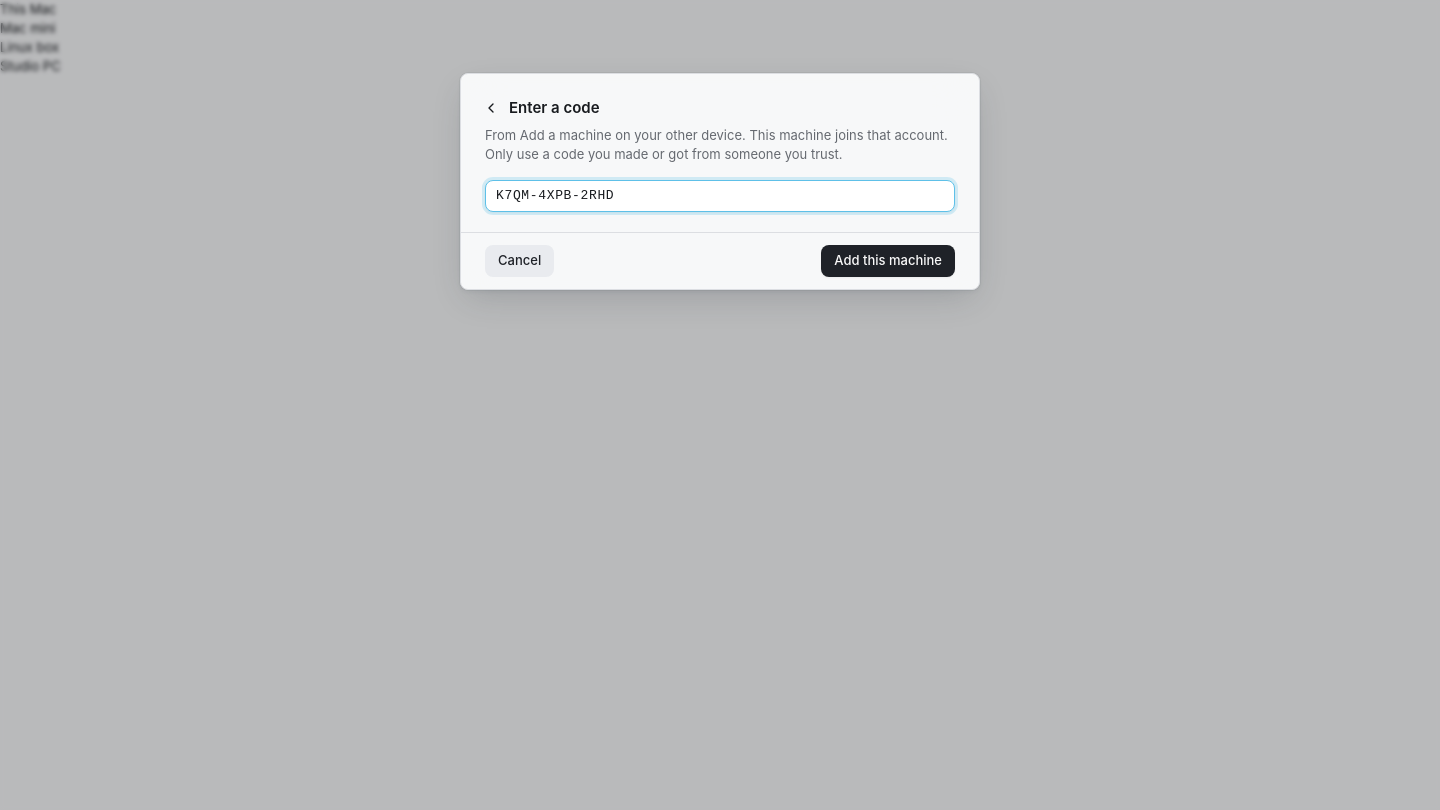
Test: Have a code? Enter it (this machine joins) › a code that fails says why, in words
Click the button "Add this machine".
click(888, 261)  # box x1=821 y1=245 x2=955 y2=277
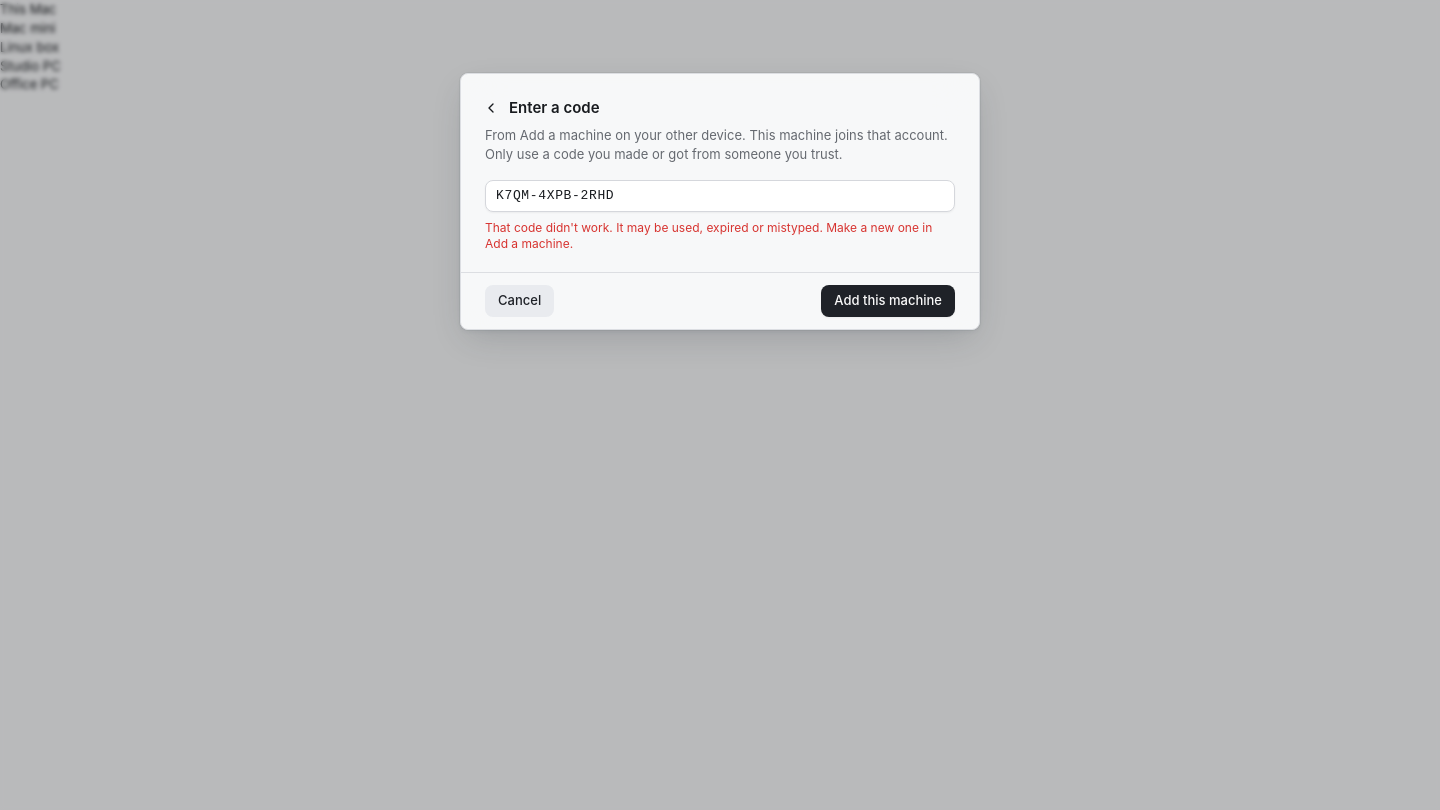
Now the message is shown, box x1=485 y1=220 x2=955 y2=252
